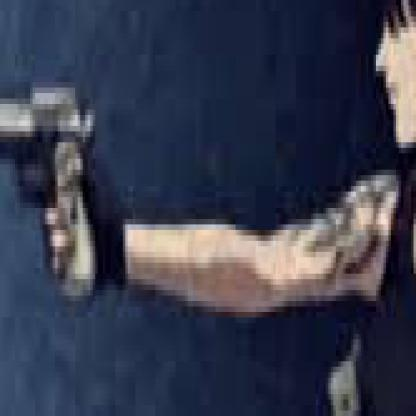gun: (0, 0, 321, 411)
